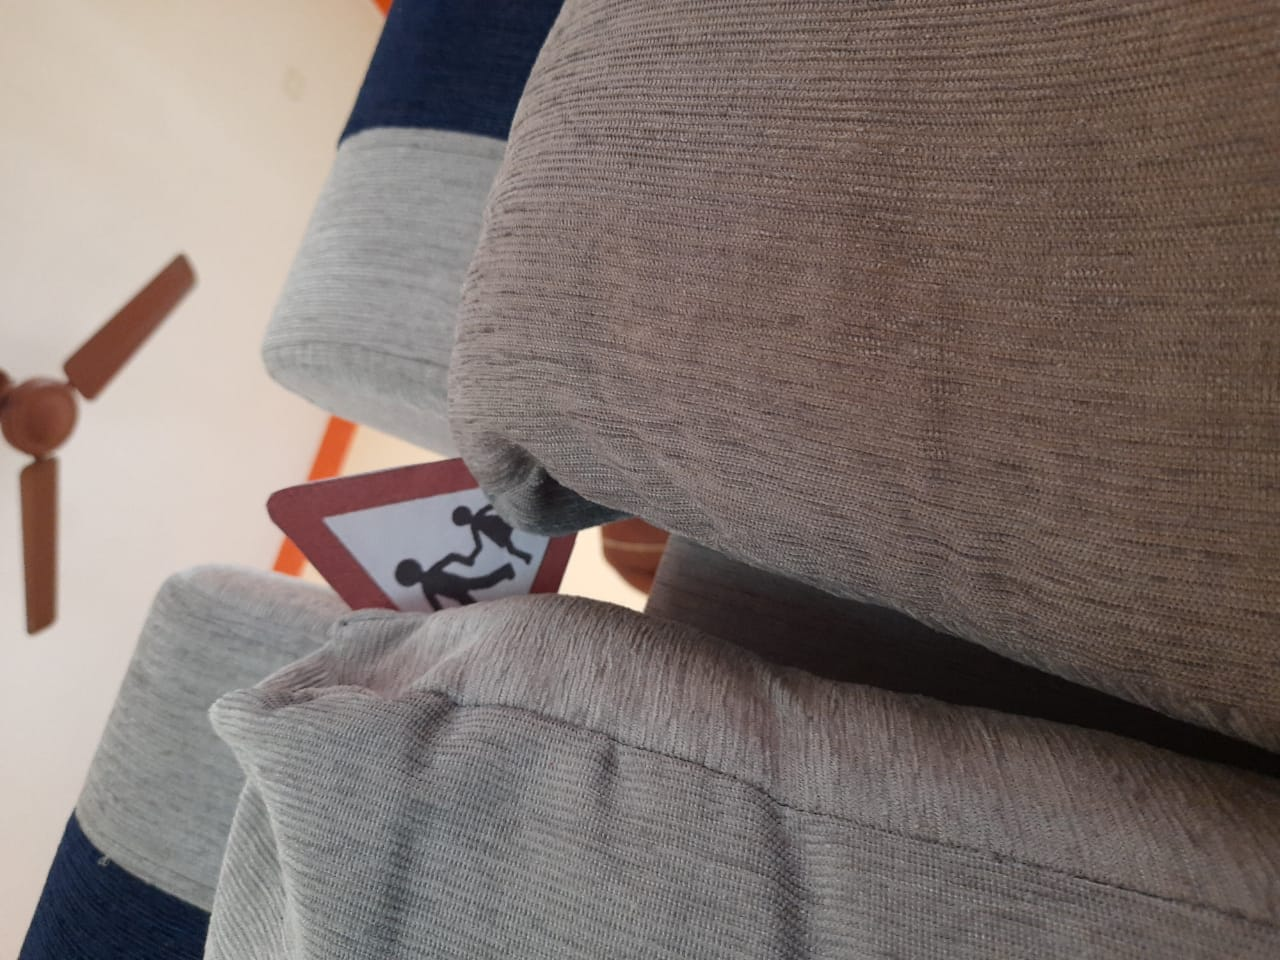SCHOOL ZONE: (231, 378, 618, 685)
